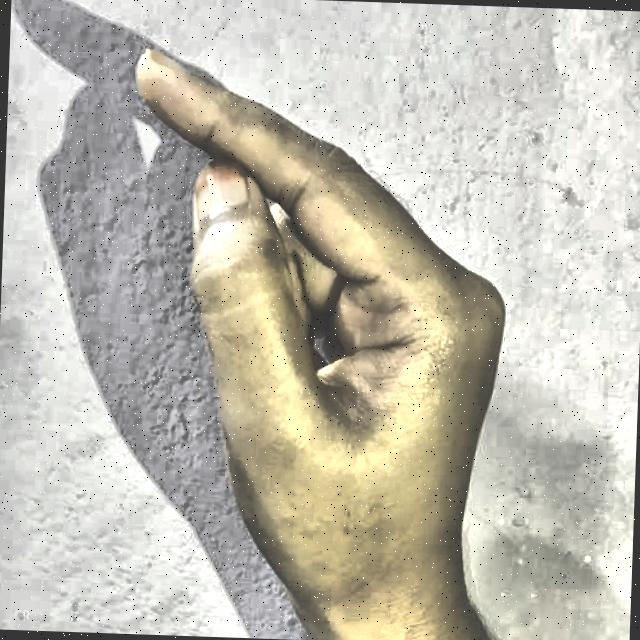Tha: (89, 20, 566, 640)
